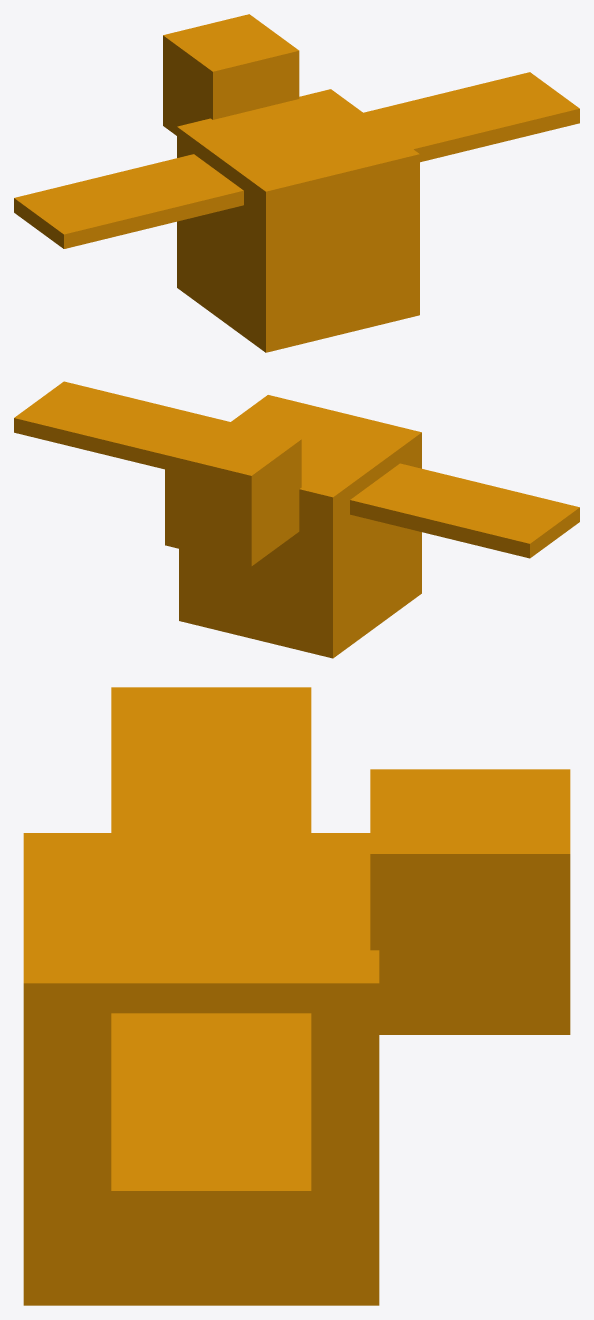
The model's file is pajaroPrueba.fbx.
The picture shows the model from 3 angles, top to bottom: view 1: azimuth 30°, elevation 25°; view 2: azimuth 150°, elevation 25°; view 3: azimuth 270°, elevation 25°; orthographic projection. The views are drawn at different scales.
Visible parts, largest first — view 1: pajaro; view 2: pajaro; view 3: pajaro.
Part boxes in pixels (x1=…): pajaro: x1=14, y1=14, x2=579, y2=352; pajaro: x1=14, y1=381, x2=579, y2=658; pajaro: x1=23, y1=687, x2=570, y2=1305.
Size of what is drawn, in the model's own units: 66.94 by 25.95 by 30.71.
